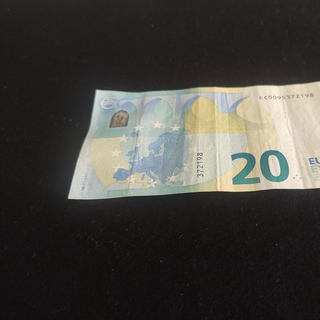20EUROBack: (67, 79, 320, 200)
